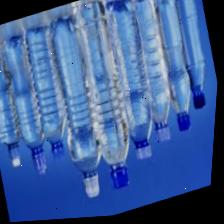plastic: (56, 0, 152, 198), (35, 10, 121, 206), (90, 0, 170, 168), (119, 0, 185, 149), (0, 29, 62, 181), (16, 22, 80, 162), (144, 0, 207, 138), (164, 0, 220, 116), (0, 34, 35, 172)
